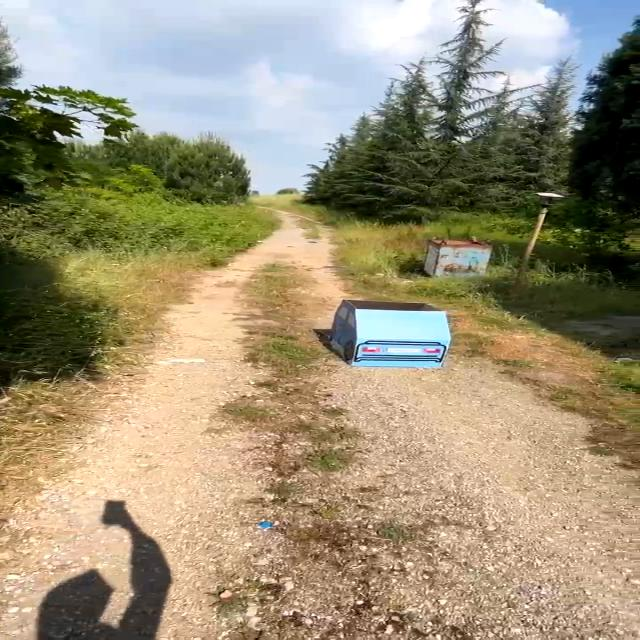blue_car: (317, 292, 474, 370)
